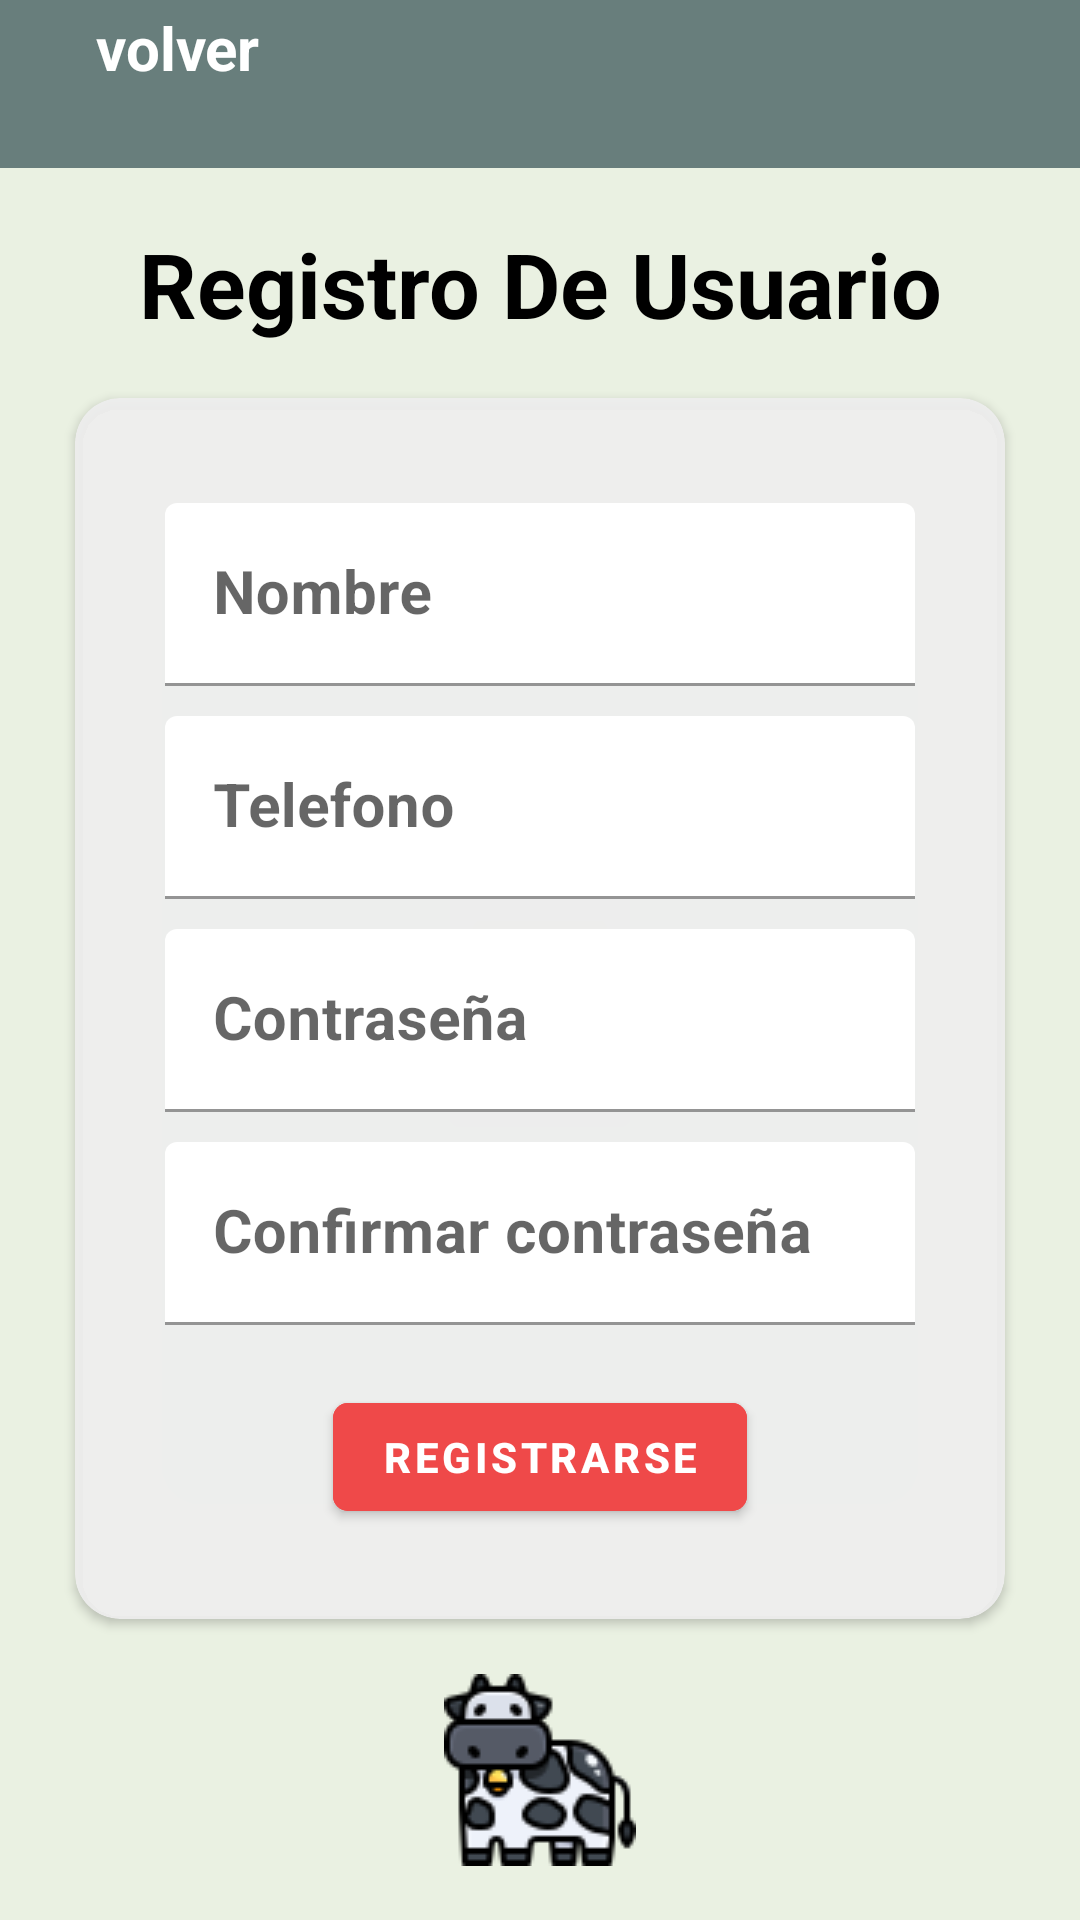

Icon click points for this 1080×1920 phone screenshot, format (x=x, y=y):
cow: (x=540, y=1770)
